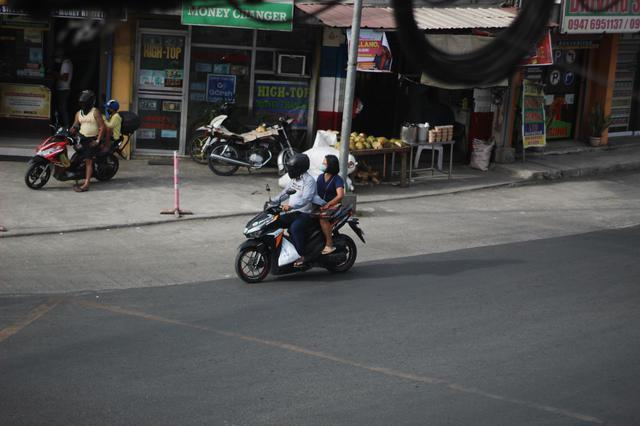helmet: (286, 153, 310, 181)
motorcycle: (235, 154, 364, 284)
